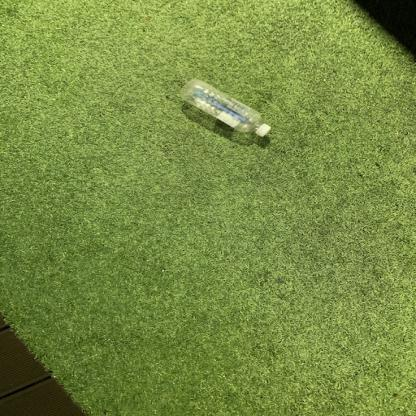trash: (178, 79, 273, 140)
